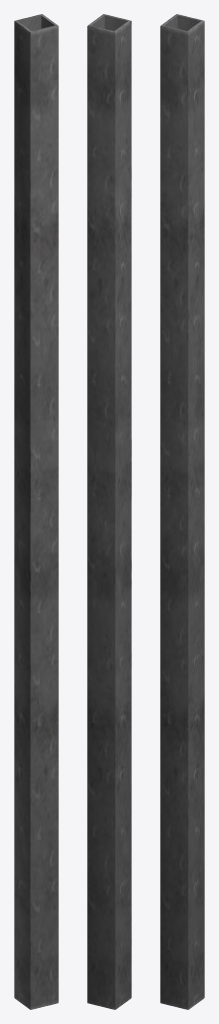
Rendered from TubeQuad_g.gltf.
3 views of the same model, side by side, from view 1: azimuth 30°, elevation 25°; view 2: azimuth 150°, elevation 25°; view 3: azimuth 330°, elevation 25° (orthographic).
Parts seen in each view (by area): view 1: WRectangle003; view 2: WRectangle003; view 3: WRectangle003.
Part boxes in pixels (x1=…): WRectangle003: x1=14, y1=14, x2=58, y2=1009; WRectangle003: x1=87, y1=14, x2=131, y2=1009; WRectangle003: x1=160, y1=14, x2=204, y2=1009.
Bounding box in the file's own units: 0.06 × 2 × 0.06.
1 material, 1 textured.
